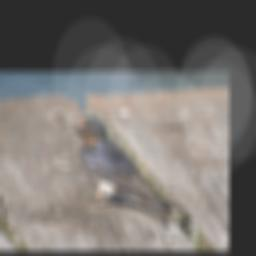Swallow: (70, 115, 192, 233)
